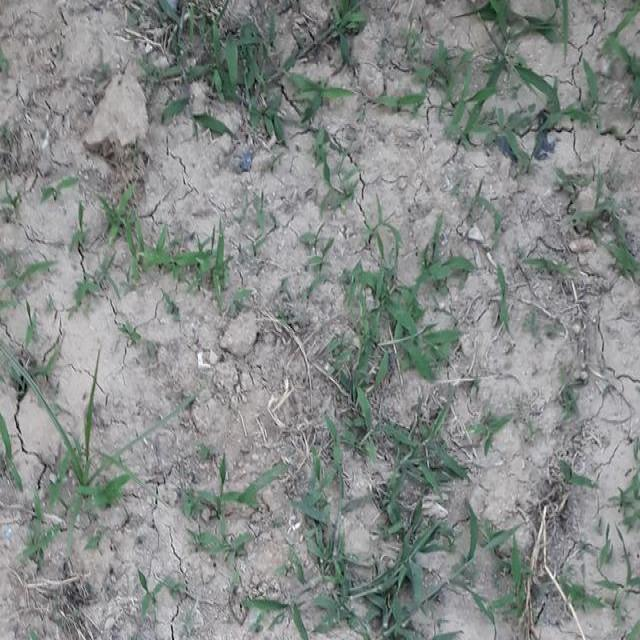weed: (153, 18, 325, 138), (364, 413, 450, 640), (21, 366, 129, 546), (323, 263, 463, 392), (84, 188, 230, 290), (481, 15, 540, 140), (184, 472, 284, 533)
